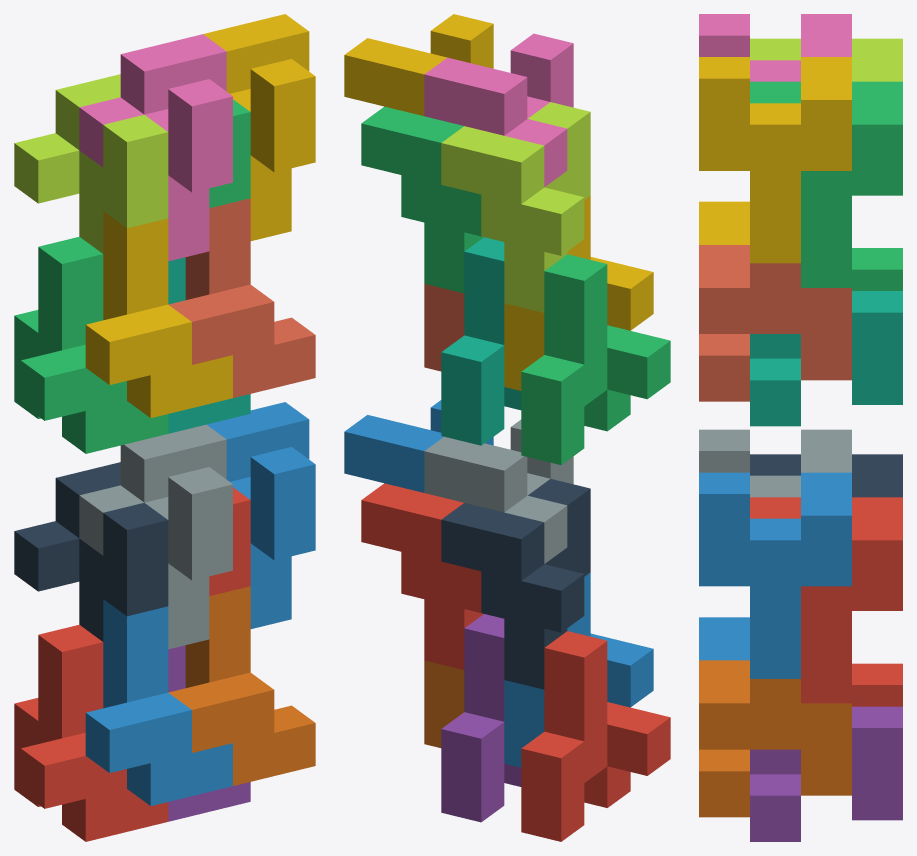
File: tiling.obj
3 renders of one model, left to right at view 1: azimuth 30°, elevation 25°; view 2: azimuth 150°, elevation 25°; view 3: azimuth 270°, elevation 25°, orthographic. The views are drawn at different scales.
Parts seen in each view (by area): view 1: copy_2_domain_4, copy_2_domain_2, copy_1_domain_1, copy_1_domain_3, copy_1_domain_2, copy_1_domain_4, copy_2_domain_1, copy_2_domain_3, copy_1_domain_6, copy_1_domain_8, copy_2_domain_8, copy_2_domain_6 (+4 smaller); view 2: copy_1_domain_3, copy_1_domain_1, copy_2_domain_3, copy_2_domain_1, copy_2_domain_4, copy_2_domain_5, copy_2_domain_7, copy_1_domain_7, copy_1_domain_5, copy_2_domain_2, copy_2_domain_8, copy_1_domain_4 (+4 smaller); view 3: copy_2_domain_6, copy_2_domain_8, copy_1_domain_6, copy_1_domain_8, copy_2_domain_7, copy_2_domain_5, copy_1_domain_5, copy_1_domain_7, copy_2_domain_2, copy_2_domain_4, copy_2_domain_3, copy_2_domain_1 (+4 smaller).
Boxes of the visible parts, x1=… form: copy_2_domain_4: x1=79, y1=34, x2=232, y2=261; copy_2_domain_2: x1=79, y1=424, x2=232, y2=649; copy_1_domain_1: x1=14, y1=624, x2=168, y2=841; copy_1_domain_3: x1=14, y1=236, x2=168, y2=453; copy_1_domain_2: x1=85, y1=599, x2=232, y2=805; copy_1_domain_4: x1=85, y1=211, x2=232, y2=417; copy_2_domain_1: x1=14, y1=462, x2=168, y2=641; copy_2_domain_3: x1=14, y1=74, x2=168, y2=253; copy_1_domain_6: x1=168, y1=586, x2=315, y2=785; copy_1_domain_8: x1=168, y1=198, x2=315, y2=397; copy_2_domain_8: x1=203, y1=14, x2=315, y2=240; copy_2_domain_6: x1=206, y1=402, x2=315, y2=628; copy_1_domain_3: x1=521, y1=254, x2=670, y2=464; copy_1_domain_1: x1=521, y1=631, x2=670, y2=841; copy_2_domain_3: x1=441, y1=102, x2=590, y2=312; copy_2_domain_1: x1=441, y1=478, x2=590, y2=689; copy_2_domain_4: x1=424, y1=33, x2=573, y2=186; copy_2_domain_5: x1=361, y1=483, x2=483, y2=669; copy_2_domain_7: x1=361, y1=106, x2=483, y2=293; copy_1_domain_7: x1=441, y1=237, x2=521, y2=445; copy_1_domain_5: x1=441, y1=614, x2=521, y2=822; copy_2_domain_2: x1=424, y1=419, x2=573, y2=563; copy_2_domain_8: x1=344, y1=14, x2=493, y2=115; copy_1_domain_4: x1=504, y1=195, x2=653, y2=390; copy_2_domain_6: x1=699, y1=472, x2=851, y2=678; copy_2_domain_8: x1=699, y1=57, x2=851, y2=263; copy_1_domain_6: x1=699, y1=660, x2=851, y2=817; copy_1_domain_8: x1=699, y1=245, x2=851, y2=401; copy_2_domain_7: x1=750, y1=81, x2=902, y2=287; copy_2_domain_5: x1=750, y1=497, x2=902, y2=703; copy_1_domain_5: x1=750, y1=706, x2=902, y2=841; copy_1_domain_7: x1=750, y1=291, x2=902, y2=426; copy_2_domain_2: x1=699, y1=429, x2=851, y2=497; copy_2_domain_4: x1=699, y1=14, x2=851, y2=81; copy_2_domain_3: x1=750, y1=38, x2=902, y2=81; copy_2_domain_1: x1=750, y1=454, x2=902, y2=497.
Bounding box in the file's own units: 7 × 17 × 4.
